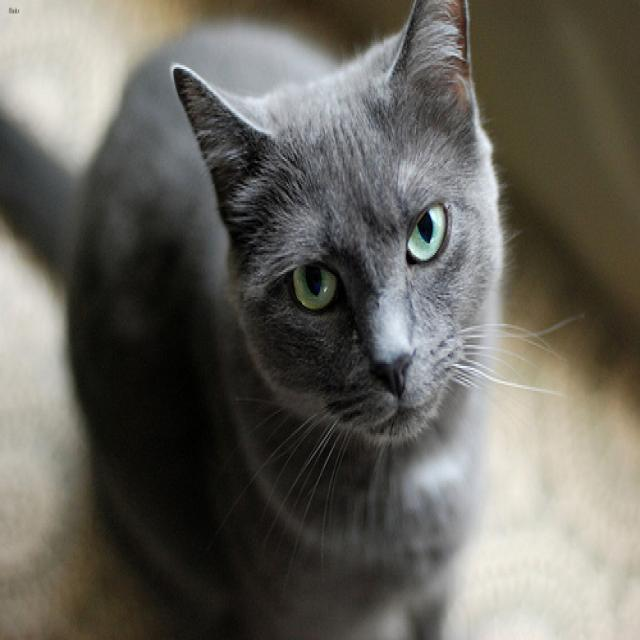Russian_Blue: (166, 0, 507, 455)
